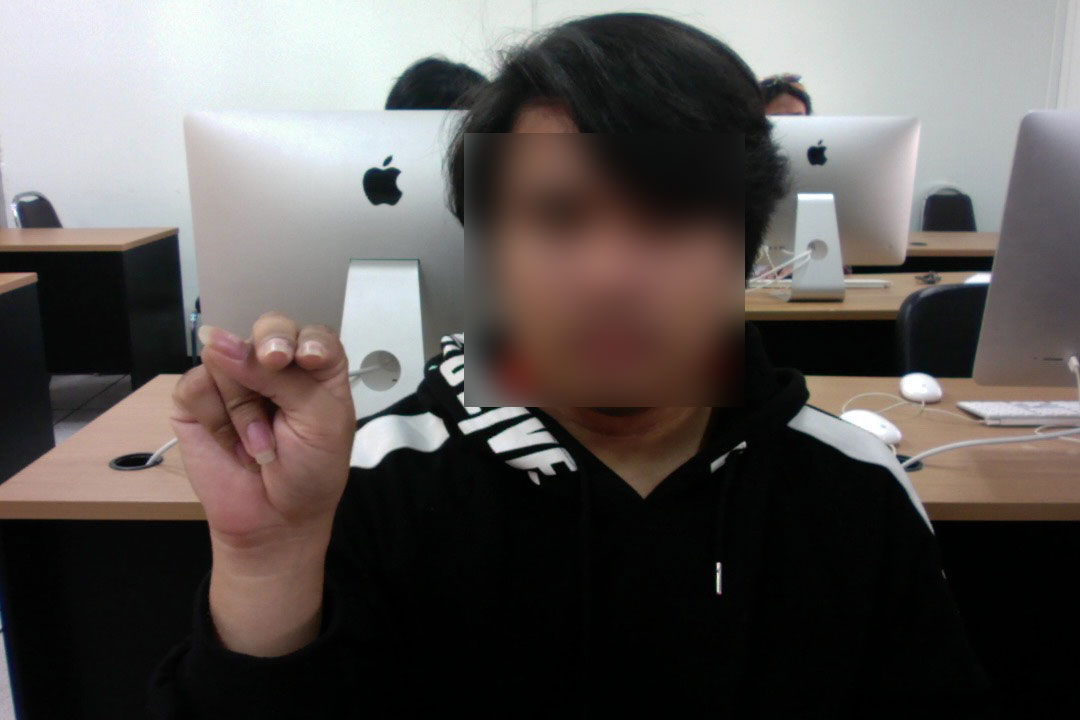nor: (157, 303, 362, 578)
